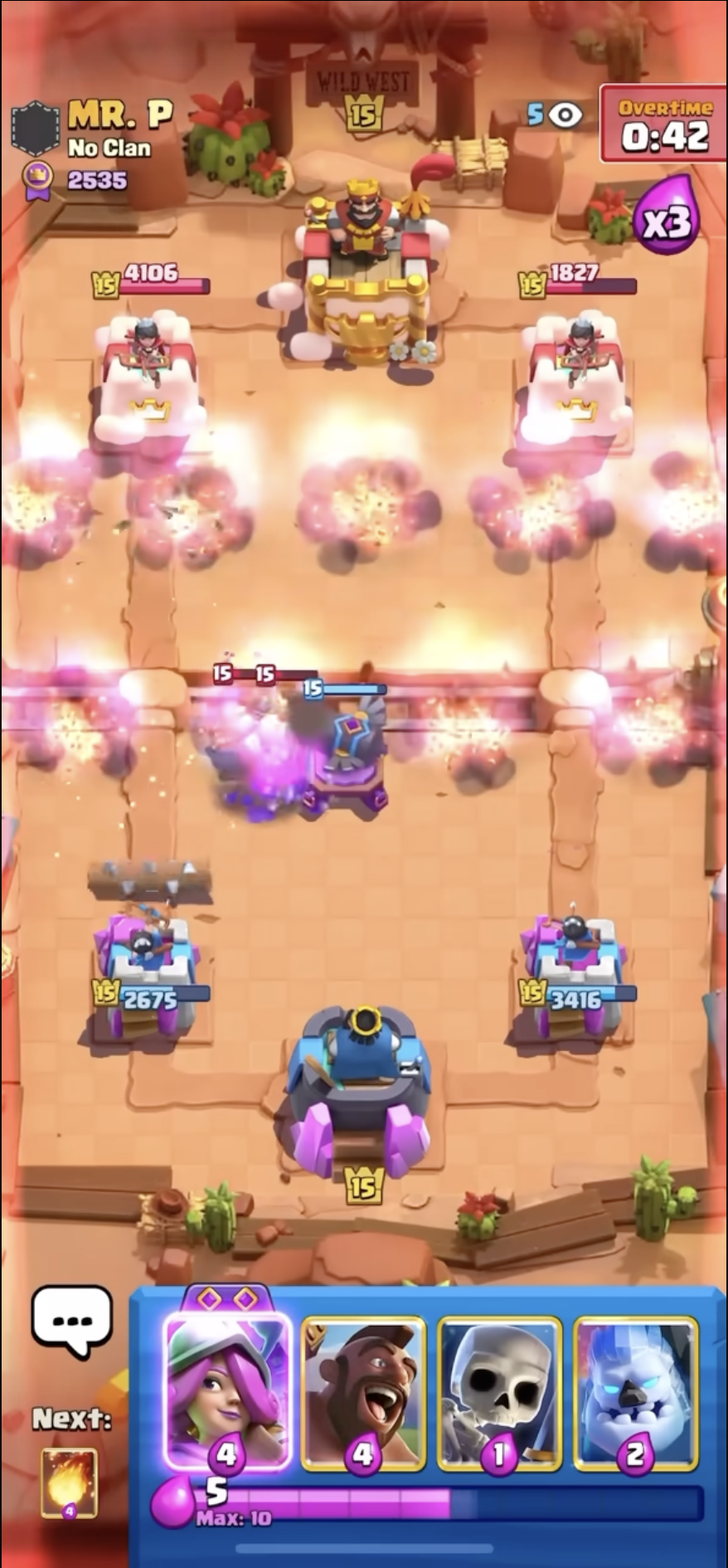evo_cannon: (296, 675, 407, 827)
